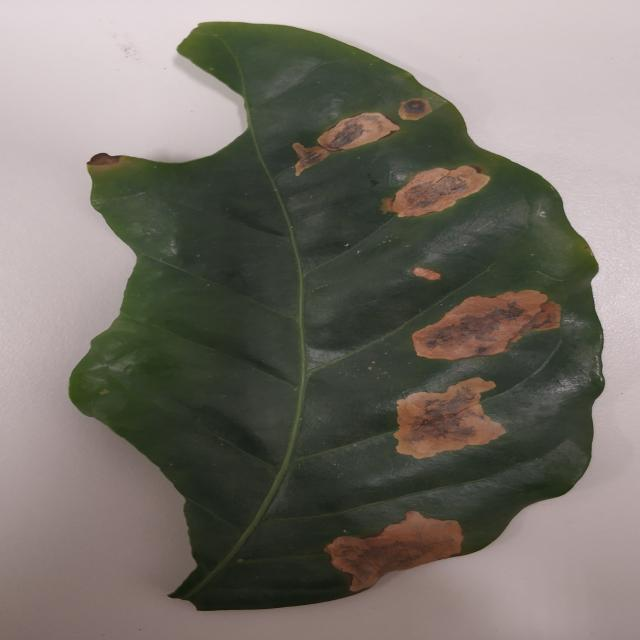Plaga-Minador: (68, 21, 606, 613)
